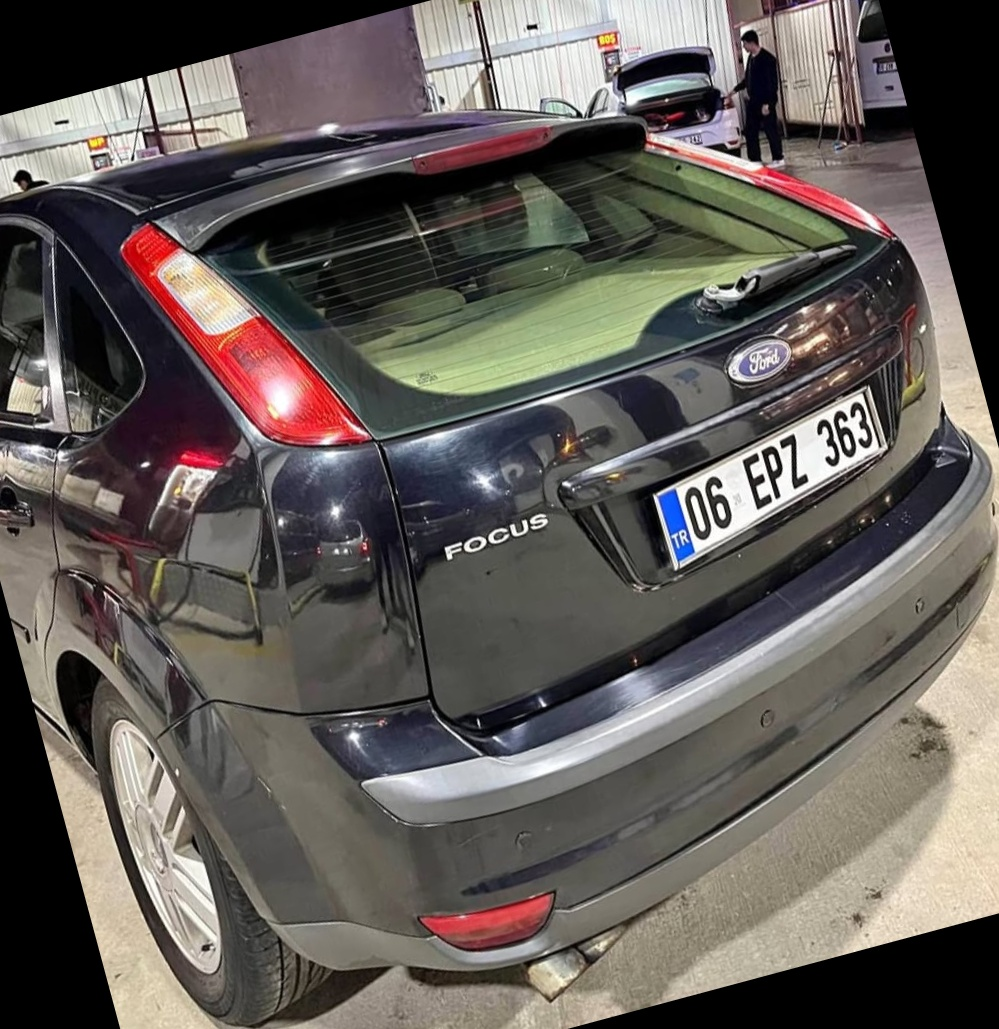plaka: (678, 395, 887, 552)
